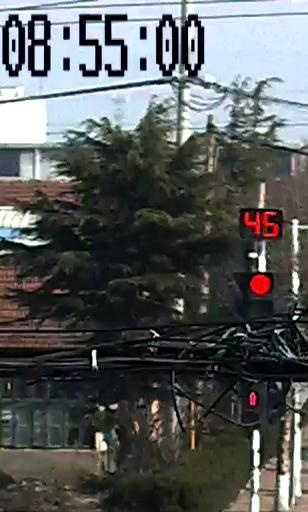red: (245, 274, 275, 304)
redpeople: (244, 390, 266, 412)
redtime: (242, 207, 277, 242)
